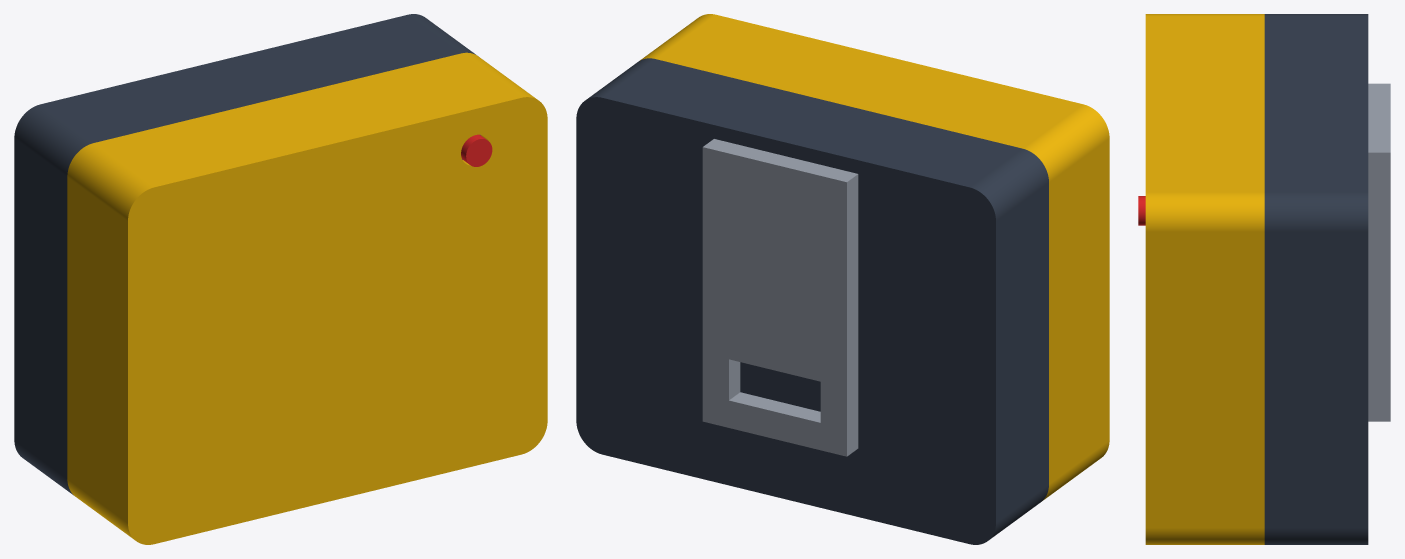
The picture shows the model from 3 angles, left to right: view 1: azimuth 30°, elevation 25°; view 2: azimuth 150°, elevation 25°; view 3: azimuth 270°, elevation 25°; orthographic projection. The views are drawn at different scales.
Parts seen in each view (by area): view 1: Front shell with bottom inlet, Rear shell, Alert LED light pipe; view 2: Rear shell, Front shell with bottom inlet, Spring clip and strap loop; view 3: Front shell with bottom inlet, Rear shell, Spring clip and strap loop.
Boxes of the visible parts, x1,y1,x2,y2 form: Front shell with bottom inlet: (67, 52, 547, 544); Rear shell: (14, 14, 475, 495); Alert LED light pipe: (461, 134, 492, 166); Rear shell: (576, 58, 1048, 544); Front shell with bottom inlet: (640, 14, 1109, 500); Spring clip and strap loop: (702, 139, 858, 456); Front shell with bottom inlet: (1145, 14, 1264, 544); Rear shell: (1264, 14, 1368, 544); Spring clip and strap loop: (1368, 83, 1390, 421).
Bounding box in the file's own units: 0.064 × 0.052 × 0.034.
